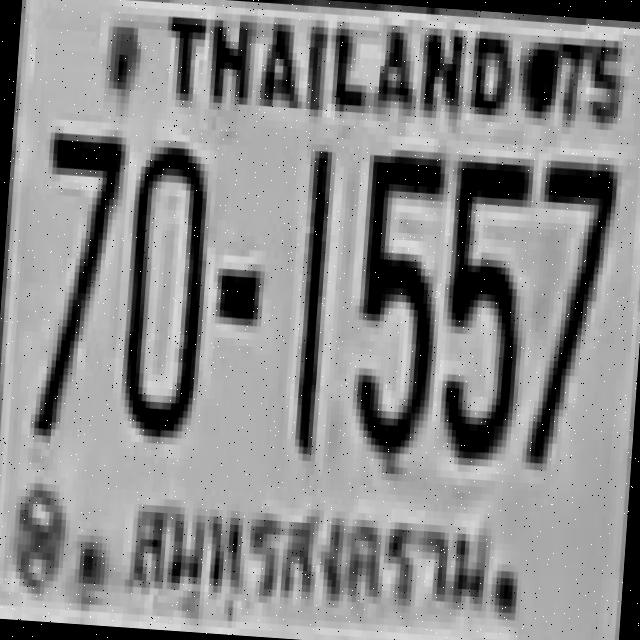0: (116, 138, 212, 439)
1: (286, 147, 332, 450)
5: (344, 148, 442, 462), (436, 157, 528, 457)
7: (27, 128, 124, 436), (522, 153, 614, 467)
SamutSongkhram: (114, 485, 502, 640)
